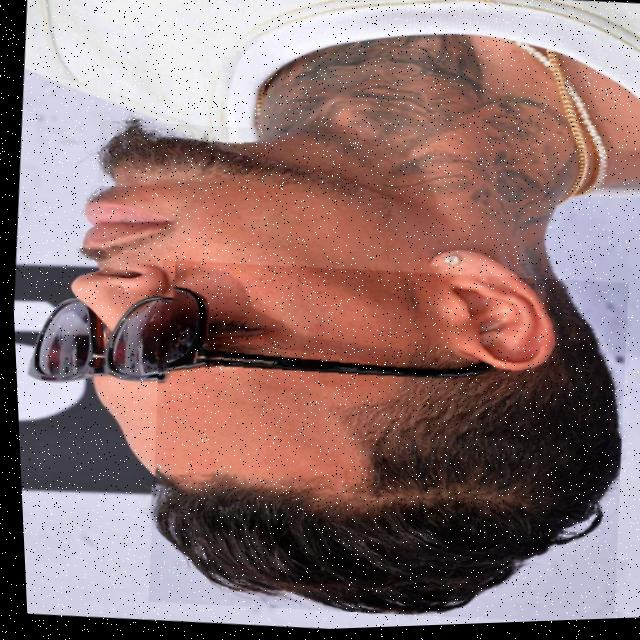beard: (97, 124, 355, 191)
hair: (147, 283, 616, 616)
